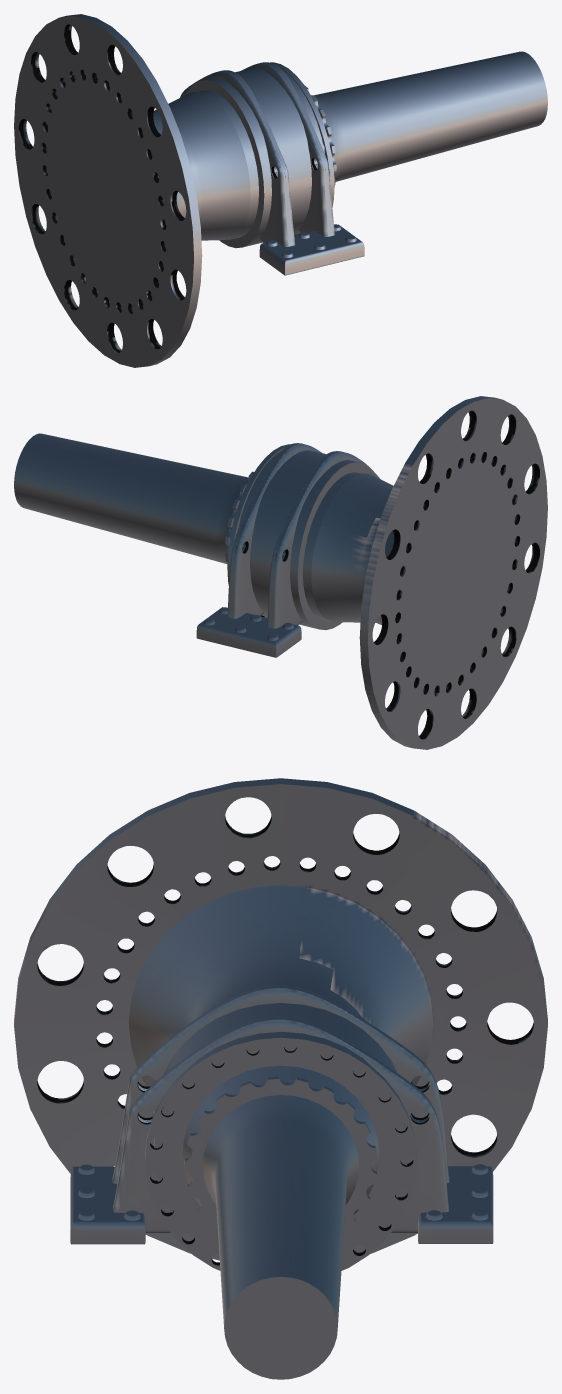
Rendered from zhuzhou.glb.
3 views of the same model, one above another, from view 1: azimuth 30°, elevation 25°; view 2: azimuth 150°, elevation 25°; view 3: azimuth 270°, elevation 25° (orthographic). The views are drawn at different scales.
Parts seen in each view (by area): view 1: 主轴; view 2: 主轴; view 3: 主轴.
Boxes of the visible parts, box(x1,y1,x2,y2) form: 主轴: box(14, 14, 547, 367); 主轴: box(14, 396, 547, 749); 主轴: box(14, 778, 547, 1379).
Bounding box in the file's own units: 13.94 × 10.23 × 10.23.
Materials: 10 (10 with a texture image).
